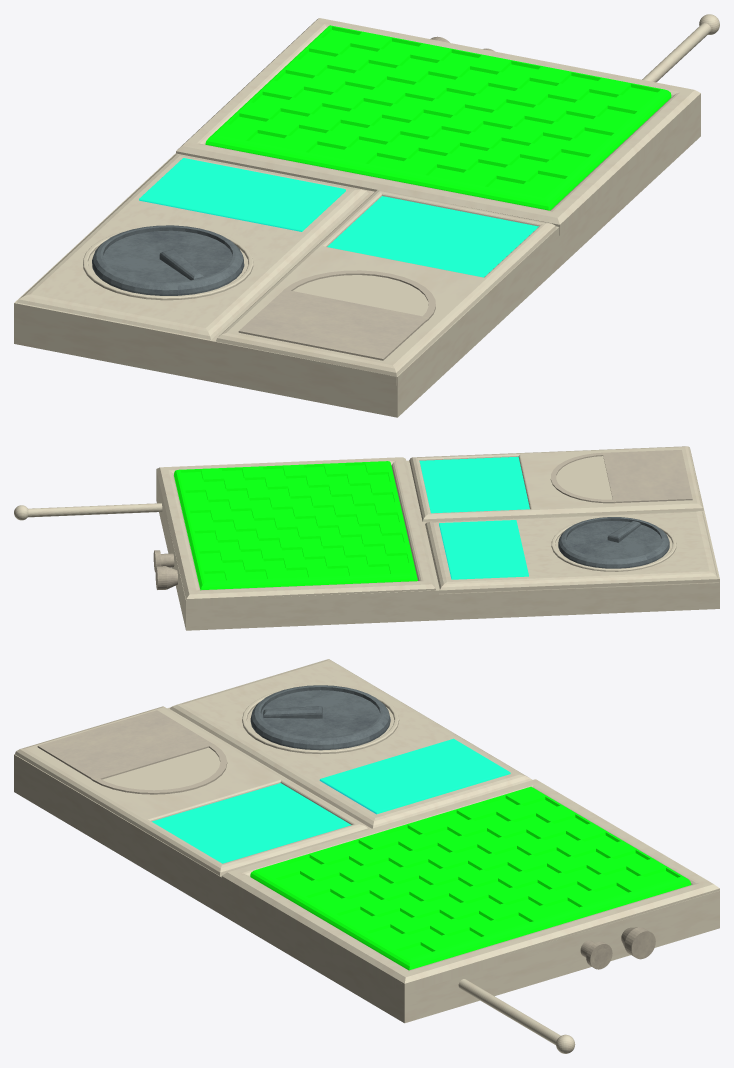
File: Final_Filler_Hand radar.glb
3 views of the same model, one above another, from view 1: azimuth 30°, elevation 25°; view 2: azimuth 150°, elevation 25°; view 3: azimuth 270°, elevation 25° (orthographic). The views are drawn at different scales.
Parts seen in each view (by area): view 1: Cube.008, Cube.014, Cube, Cube.003, Cube.004, Cube.001, Cube.002, Cube.007; view 2: Cube.014, Cube.008, Cube, Cube.003, Cube.004, Cube.001, Cube.002, Cube.007, Cube.005, Cube.006; view 3: Cube.014, Cube.008, Cube, Cube.003, Cube.004, Cube.001, Cube.002, Cube.007, Cube.005, Cube.006.
Boxes of the visible parts, x1,y1,x2,y2 form: Cube.008: (205,25,671,210); Cube.014: (16,18,700,385); Cube: (14,96,700,417); Cube.003: (327,196,538,277); Cube.004: (238,270,435,360); Cube.001: (92,225,244,295); Cube.002: (139,158,345,231); Cube.007: (642,14,719,82); Cube.014: (156,446,719,606); Cube.008: (174,461,417,590); Cube: (156,458,719,630); Cube.003: (419,456,529,513); Cube.004: (550,450,692,503); Cube.001: (558,517,669,568); Cube.002: (439,520,528,579); Cube.007: (14,503,162,520); Cube.005: (155,566,177,589); Cube.006: (153,550,174,572); Cube.014: (15,659,719,993); Cube.008: (250,786,691,970); Cube: (14,707,719,1023); Cube.003: (152,783,351,863); Cube.004: (37,710,227,794); Cube.001: (250,685,390,750); Cube.002: (319,738,510,814); Cube.007: (458,979,575,1053); Cube.005: (621,927,655,959); Cube.006: (580,940,612,969).
Size of the model in its own units: 6.39 by 0.4458 by 5.1.
8 materials, 8 textured.
